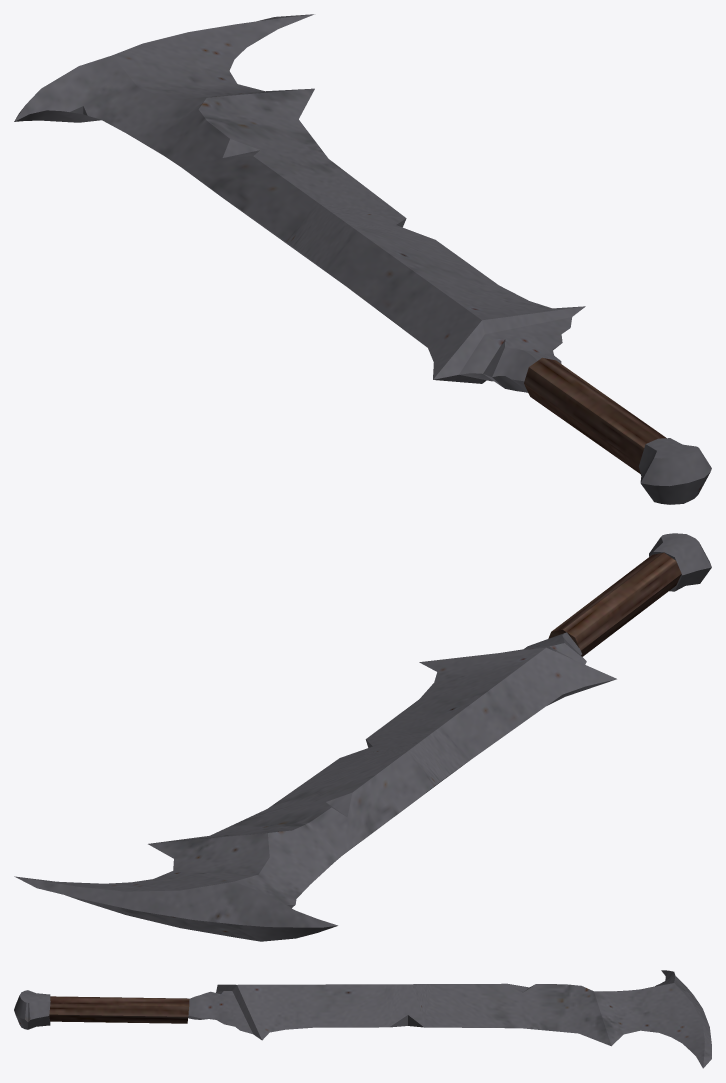
Rendered from orc_sword.fbx.
3 renders of one model, top to bottom at view 1: azimuth 30°, elevation 25°; view 2: azimuth 150°, elevation 25°; view 3: azimuth 270°, elevation 25°, orthographic. The views are drawn at different scales.
Parts seen in each view (by area): view 1: Plane.021; view 2: Plane.021; view 3: Plane.021.
Boxes of the visible parts, x1,y1,x2,y2 form: Plane.021: (14, 14, 711, 504); Plane.021: (14, 533, 711, 941); Plane.021: (14, 970, 711, 1068).
Size of the model in its own units: 30.56 by 5.52 by 91.37.
